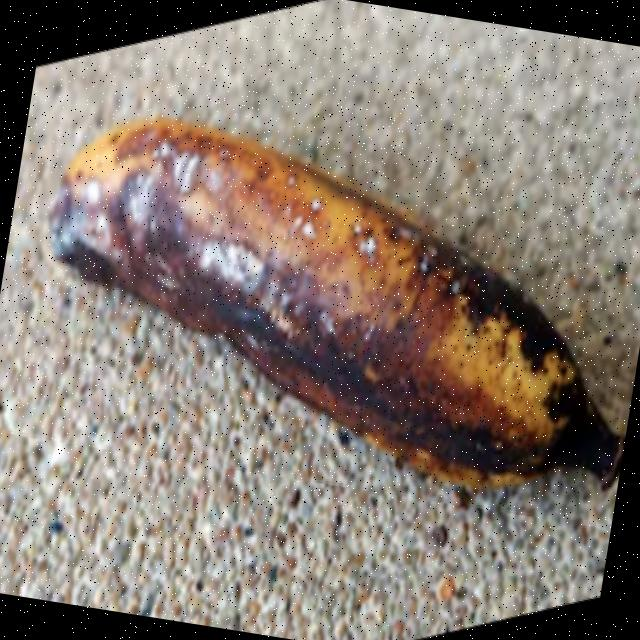Rotten: (0, 37, 640, 544)
